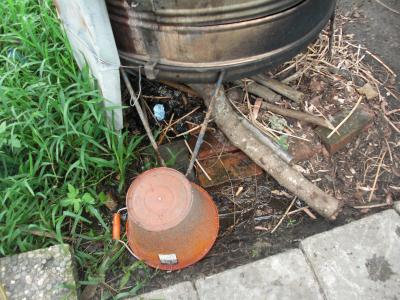bucket: (125, 165, 219, 272)
